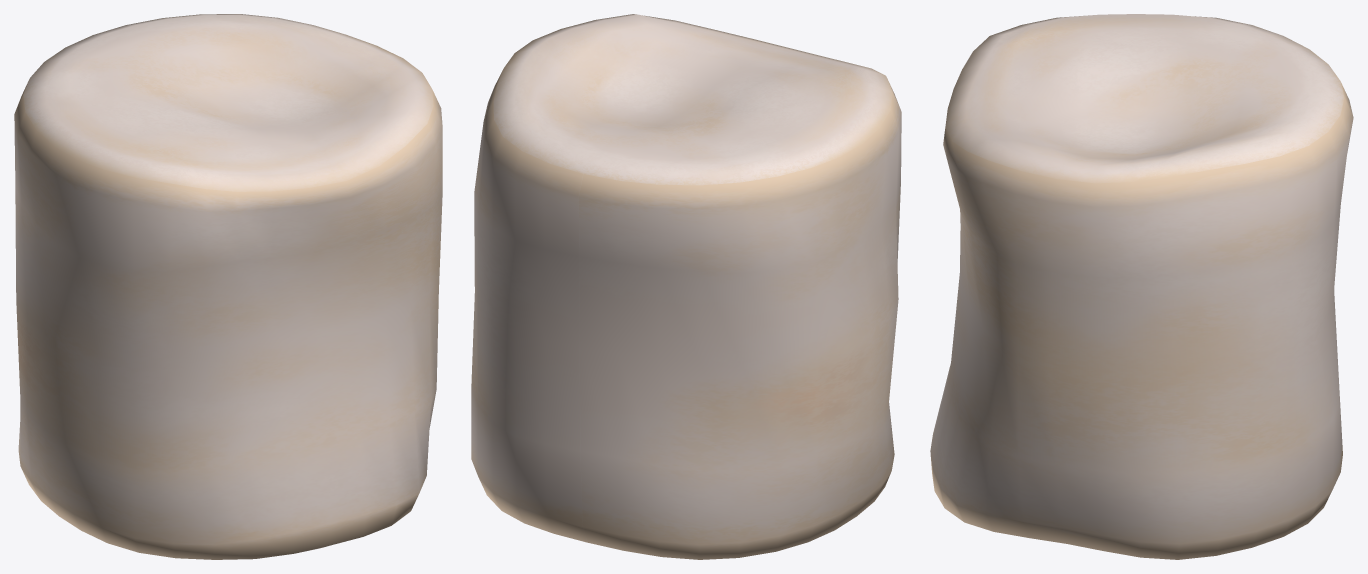
The model's file is Marshmallow.fbx.
The picture shows the model from 3 angles, left to right: view 1: azimuth 30°, elevation 25°; view 2: azimuth 150°, elevation 25°; view 3: azimuth 270°, elevation 25°; orthographic projection.
Visible parts, largest first — view 1: Cylinder; view 2: Cylinder; view 3: Cylinder.
Part boxes in pixels (x1=…): Cylinder: x1=14, y1=14, x2=442, y2=559; Cylinder: x1=471, y1=14, x2=901, y2=559; Cylinder: x1=930, y1=14, x2=1353, y2=559.
Size of the model in its own units: 16.48 by 16.98 by 16.37.
